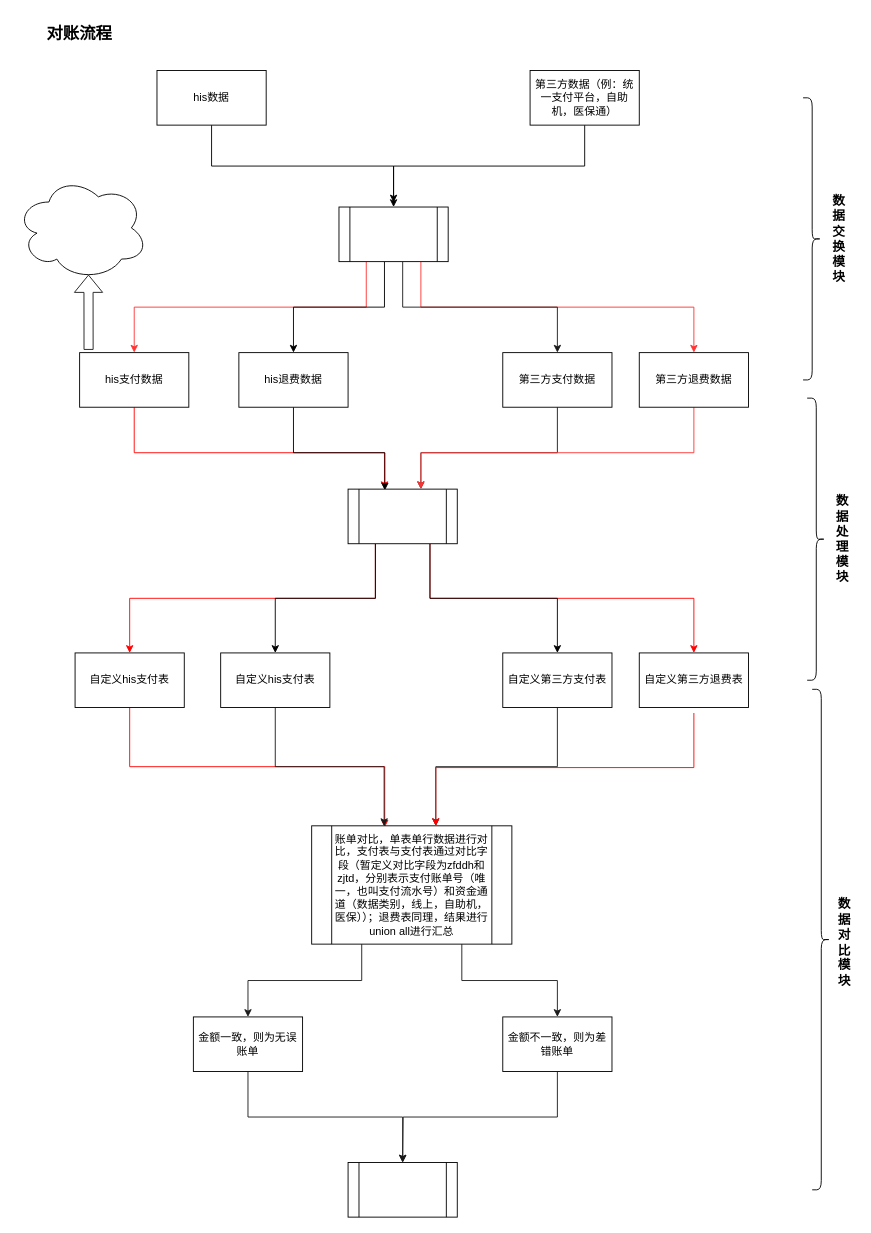
The diagram is 871 pixels wide and 1233 high, and some of its shapes have lost their labels. Here are the shapes that lost their labels. From the top down, the centre of each, then its label:
(81,227): 如有合并支付情况， 求和后归入自定义 his支付表，整体作 为一笔订单
(393,234): 数据交互流程（通过接口定时任务处理）
(402,516): 数据处理（暂时通过存储过程来处理数据）
(402,1189): 通过确认操作，完成对账
